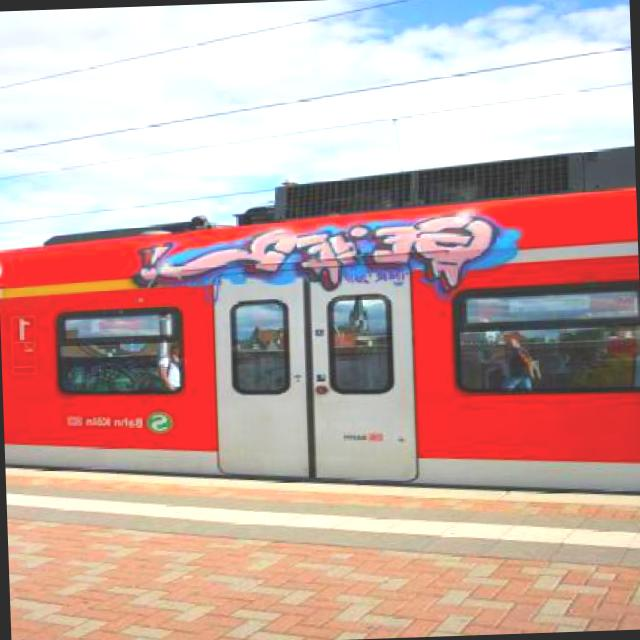Person: (496, 336, 538, 390), (154, 344, 183, 392)
